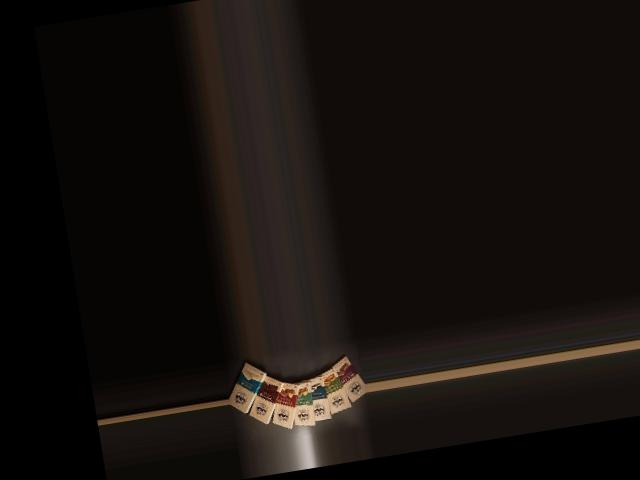chocolate: (223, 356, 272, 417)
